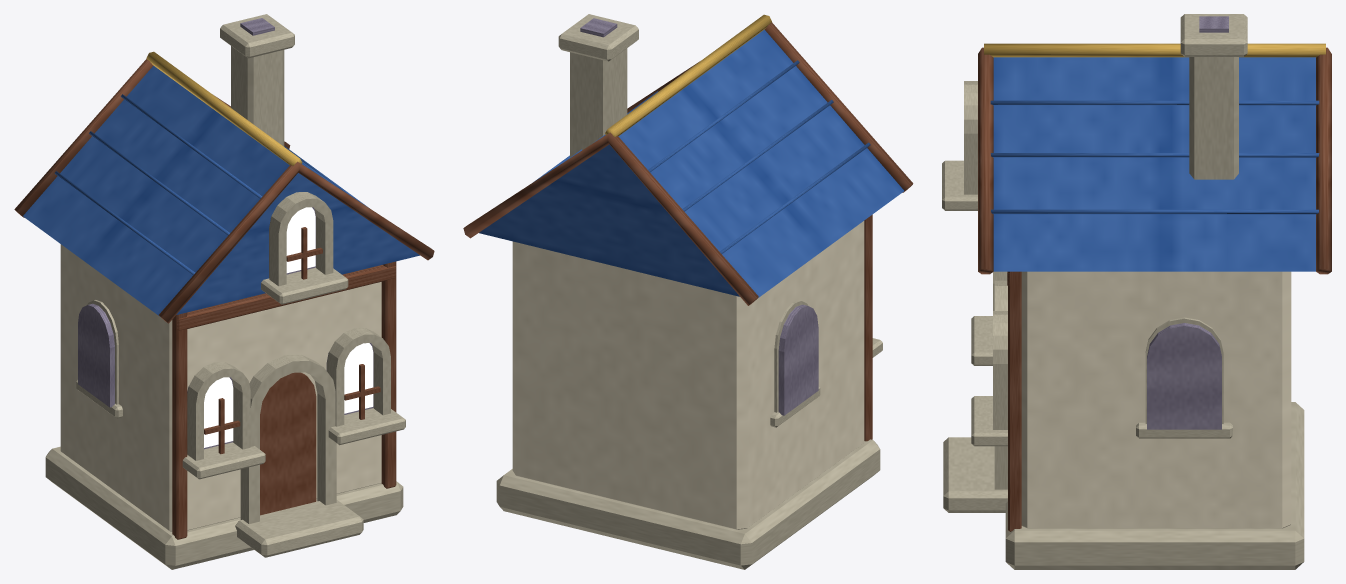
File: fantasy-house.glb
The picture shows the model from 3 angles, left to right: view 1: azimuth 30°, elevation 25°; view 2: azimuth 150°, elevation 25°; view 3: azimuth 270°, elevation 25°; orthographic projection. The views are drawn at different scales.
Visible parts, largest first — view 1: fantasy-house; view 2: fantasy-house; view 3: fantasy-house.
Part boxes in pixels (<box>): fantasy-house: <box>14,14,434,569</box>; fantasy-house: <box>463,14,913,569</box>; fantasy-house: <box>942,14,1331,569</box>.
Size of the model in its own units: 1.87 by 2.88 by 1.97.
7 materials, 7 textured.
